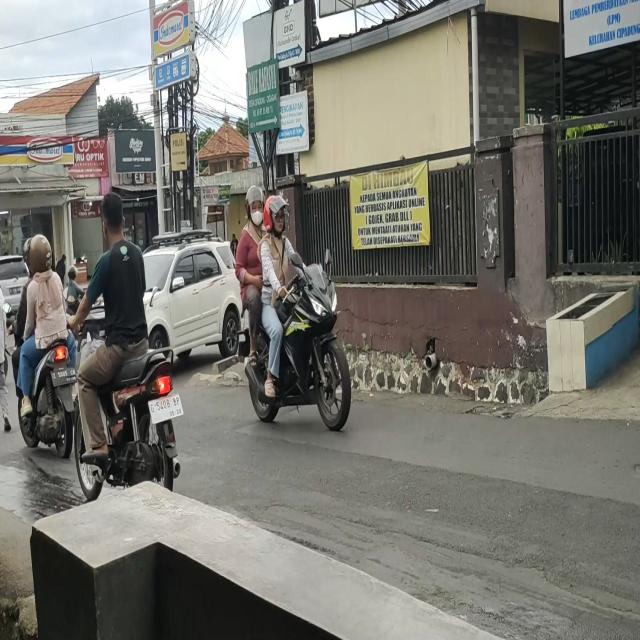helmet: (24, 228, 54, 274), (242, 187, 264, 229), (265, 198, 287, 238)
no-helmet: (100, 197, 128, 246)
